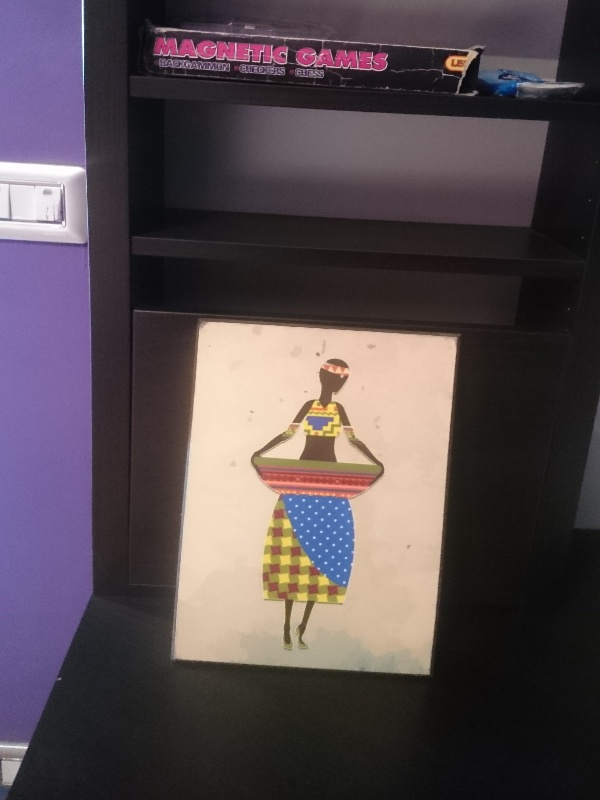my image: (172, 325, 458, 669)
